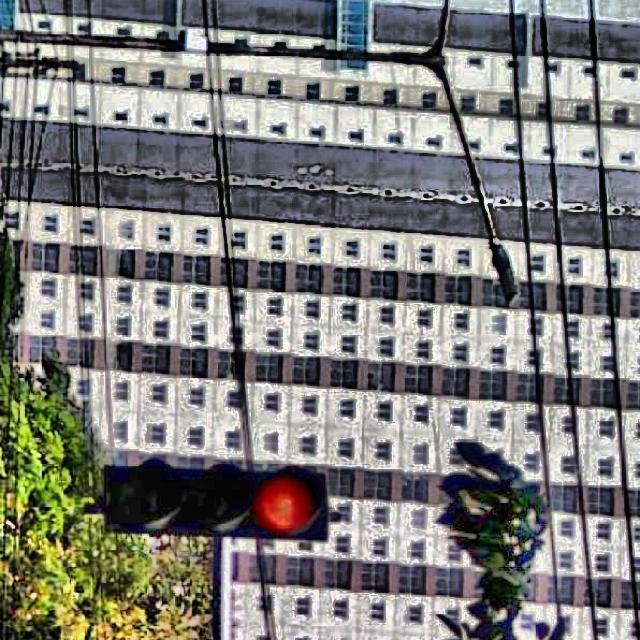red: (93, 459, 330, 536)
